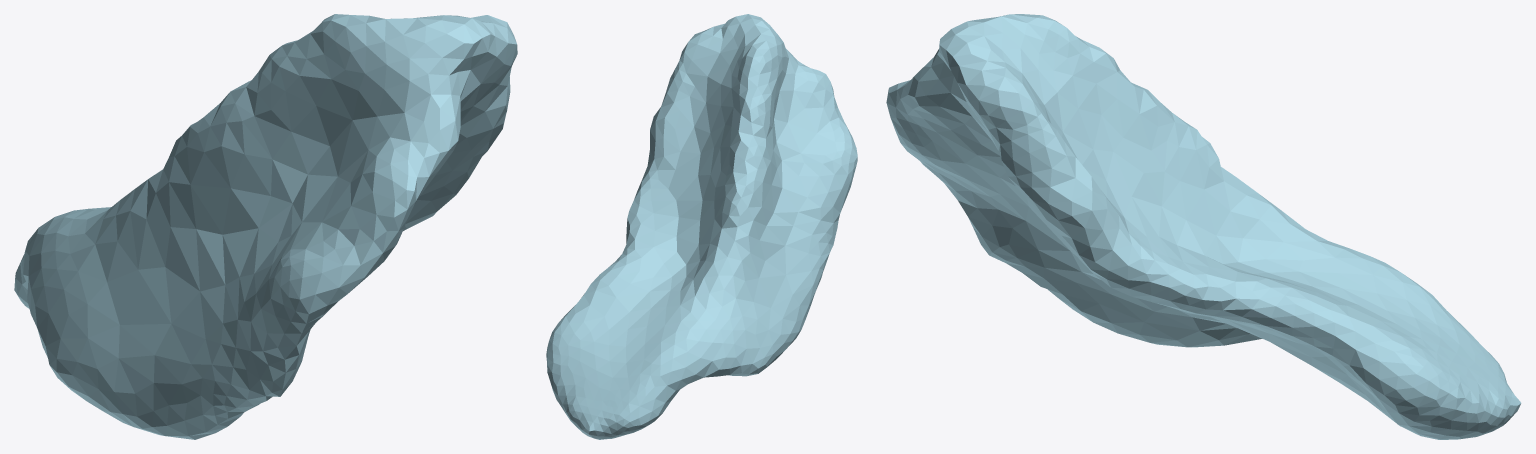
File: leftsurrenalgland.obj
3 views of the same model, side by side, from view 1: azimuth 30°, elevation 25°; view 2: azimuth 150°, elevation 25°; view 3: azimuth 270°, elevation 25° (orthographic). The views are drawn at different scales.
Parts seen in each view (by area): view 1: grp1; view 2: grp1; view 3: grp1.
Part boxes in pixels (left/top/right/bottom): grp1: left=14, top=14, right=517, bottom=439; grp1: left=546, top=14, right=857, bottom=439; grp1: left=886, top=14, right=1521, bottom=439.
Size of the model in its own units: 23.75 by 36.25 by 49.69.
